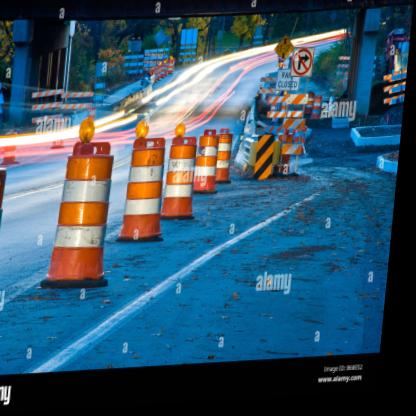obstacle: (49, 149, 128, 291), (125, 139, 178, 248), (166, 134, 207, 227), (199, 134, 226, 200)
